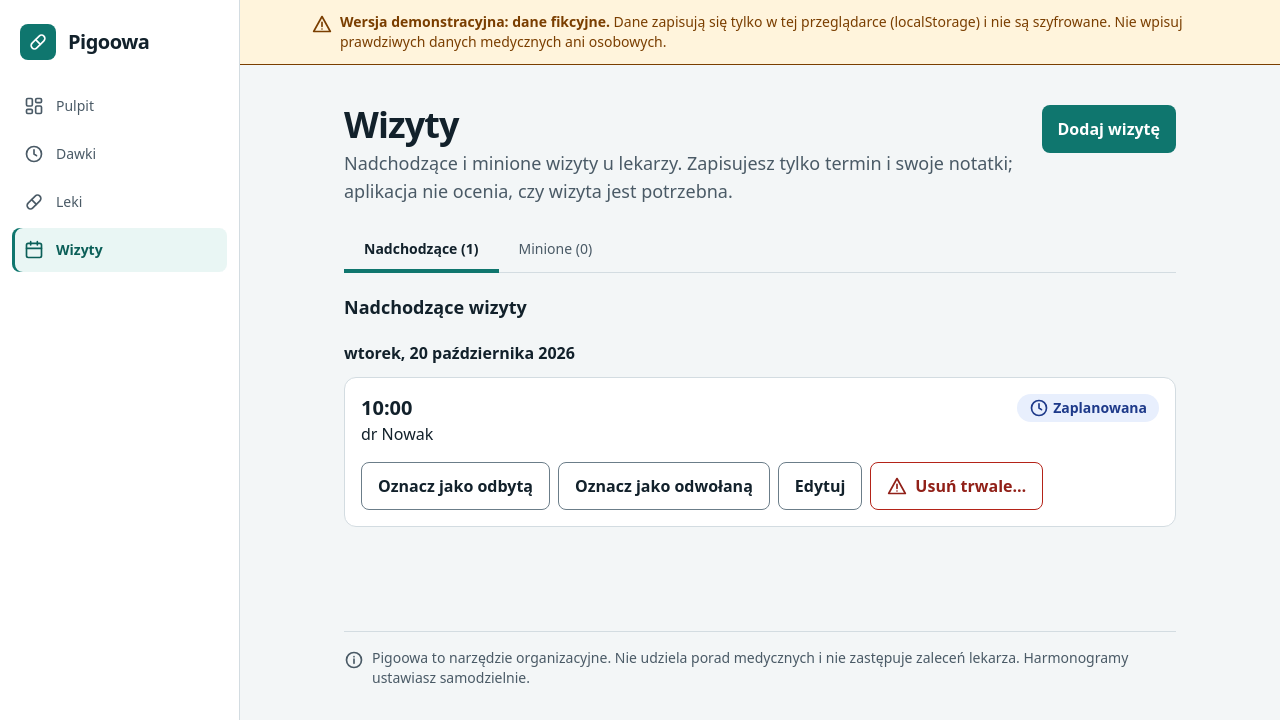
it: appointments: changing the status › marks an upcoming appointment completed: saved once, announced, and moved to the past
Step 1. Click the button with aria-label "Oznacz jako odbytą: dr Nowak, 20 października 2026, 10:00" → (456, 486), box [361,462,550,510]
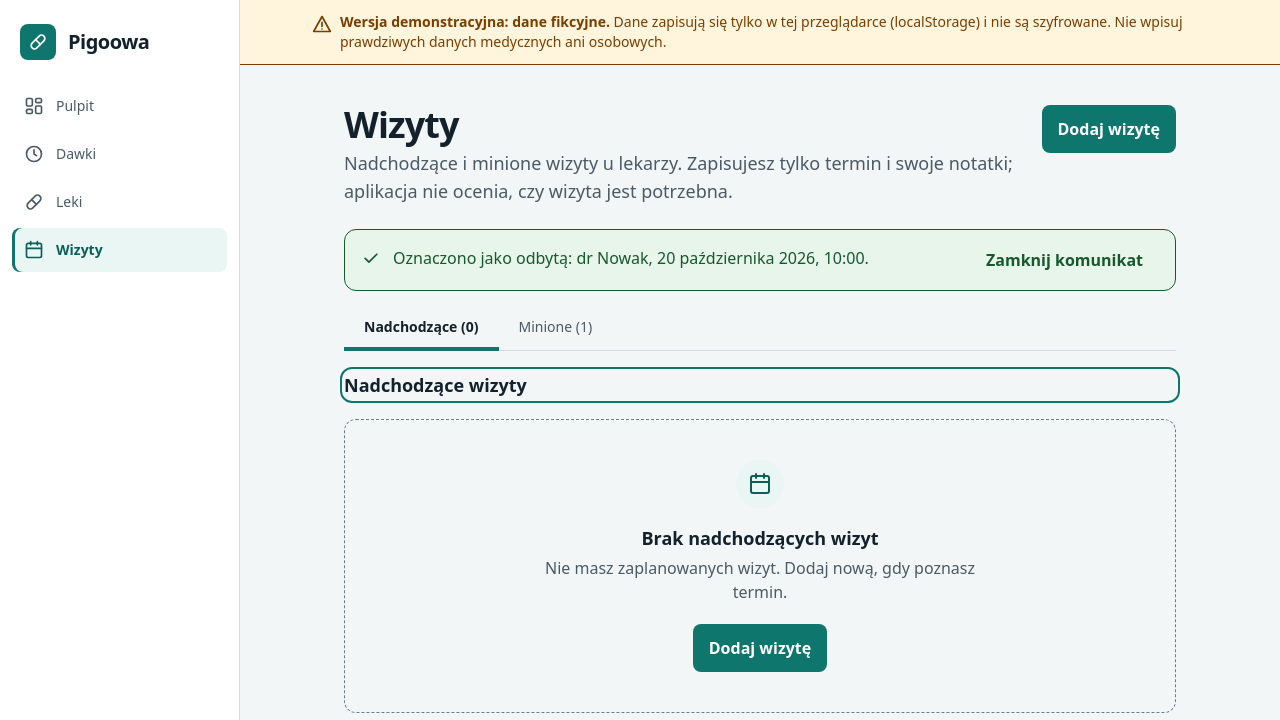
Check: the heading "Brak nadchodzących wizyt" is shown, box [642,524,878,552]
Check: the tab "Minione (1)" is shown, box [498,307,612,351]
